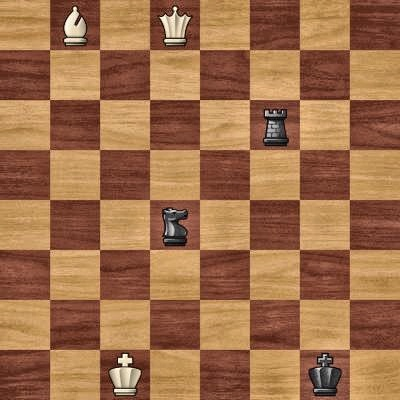black-king: (300, 350, 350, 400)
black-knight: (150, 200, 200, 250)
black-rook: (250, 100, 300, 150)
white-bishop: (50, 0, 100, 50)
white-king: (100, 350, 150, 400)
white-queen: (150, 0, 200, 50)
